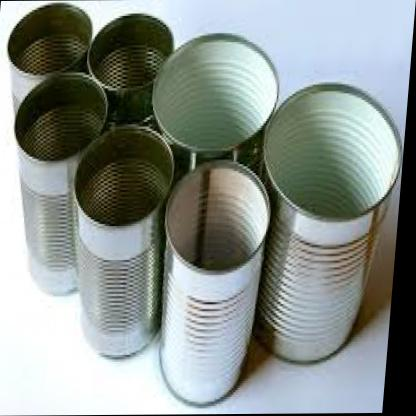Metal: (0, 5, 413, 416)
